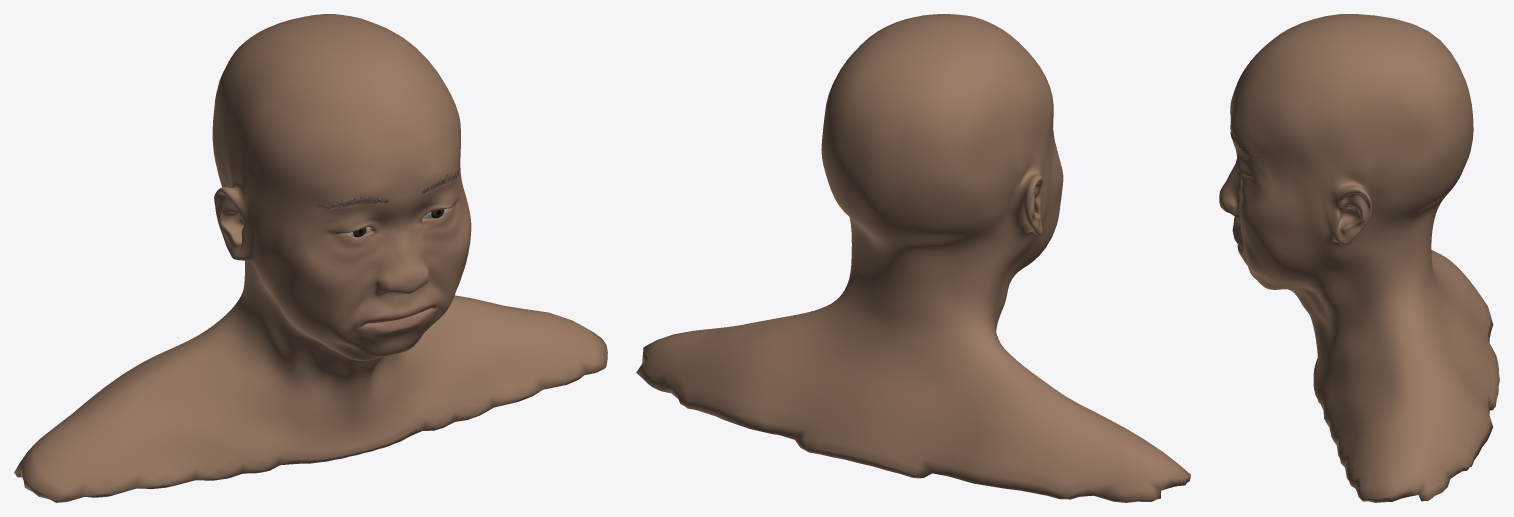
Rendered from director_wu.glb.
3 renders of one model, left to right at view 1: azimuth 30°, elevation 25°; view 2: azimuth 150°, elevation 25°; view 3: azimuth 270°, elevation 25°, orthographic. The views are drawn at different scales.
Visible parts, largest first — view 1: anatomy_head_and_neck; view 2: anatomy_head_and_neck; view 3: anatomy_head_and_neck.
Part boxes in pixels (bbox=[...]): anatomy_head_and_neck: bbox=[14, 14, 607, 502]; anatomy_head_and_neck: bbox=[636, 14, 1190, 502]; anatomy_head_and_neck: bbox=[1219, 14, 1499, 502].
Size of the model in its own units: 1 by 0.6788 by 0.4801.
